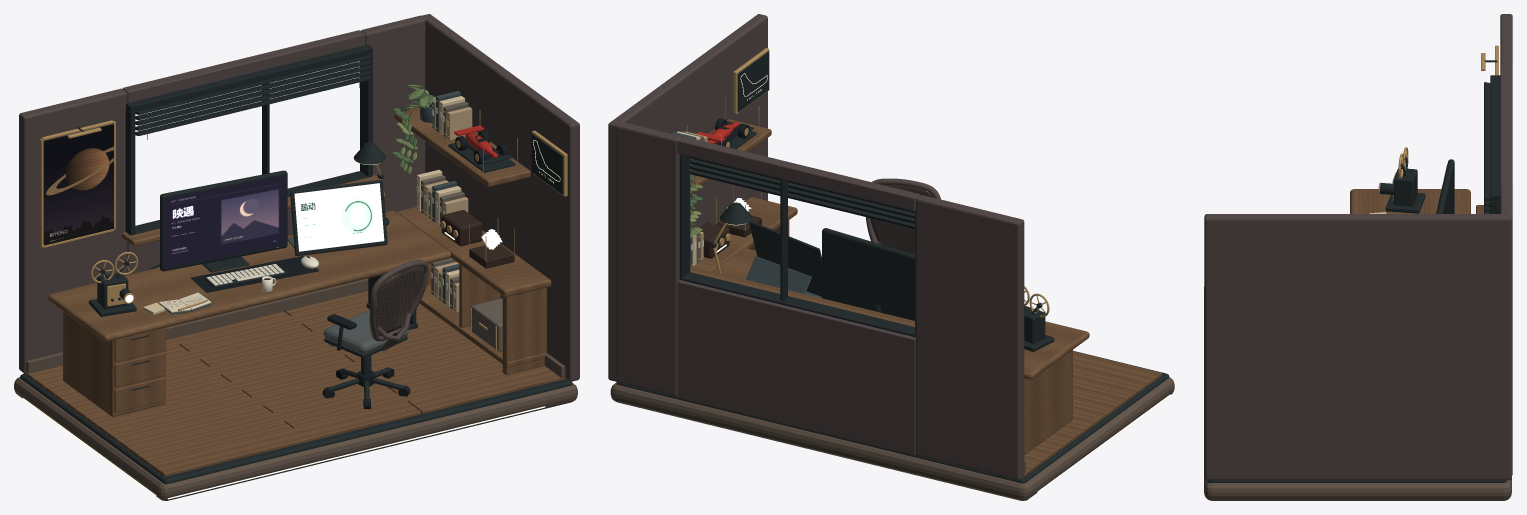
File: OvO_Studio_Interior.glb
3 views of the same model, side by side, from view 1: azimuth 30°, elevation 25°; view 2: azimuth 150°, elevation 25°; view 3: azimuth 270°, elevation 25° (orthographic). The views are drawn at different scales.
Parts seen in each view (by area): view 1: Arch_Right_Wall, Arch_Back_Left_Pier, Desk_Main_Ash_Top, Arch_Plinth, Screen_yingyu_Surface, Arch_Back_Right_Pier, Poster_Orbital_Study, Screen_bounce_Surface, Arch_Floor_Substrate, Arch_Ash_Plank_02_-3.38, Desk_Left_Cabinet, Arch_Back_Window_Header (+53 smaller); view 2: Arch_Back_Left_Pier, Arch_Back_Window_Apron, Arch_Back_Right_Pier, Arch_Right_Wall, Arch_Plinth, yingyu_Monitor_Enclosure, Arch_Back_Window_Header, Desk_Left_Cabinet, Desk_Main_Ash_Top, Window_Frame_1.99, Arch_Floor_Substrate, bounce_iPad_Enclosure (+17 smaller); view 3: Arch_Right_Wall, Arch_Plinth, Desk_Main_Ash_Top, Arch_Back_Window_Header, Window_Frame_3.72, Arch_Floor_Substrate, Window_Blind_Slat_0, Projector_Body, yingyu_Monitor_Enclosure, Arch_Back_Left_Pier, Arch_Back_Right_Pier, Projector_Pedestal.
Part boxes in pixels (bbox=[...]): Arch_Right_Wall: bbox=[422, 14, 579, 381]; Arch_Back_Left_Pier: bbox=[19, 88, 127, 373]; Desk_Main_Ash_Top: bbox=[47, 210, 450, 341]; Arch_Plinth: bbox=[14, 377, 577, 500]; Screen_yingyu_Surface: bbox=[166, 175, 284, 267]; Arch_Back_Right_Pier: bbox=[361, 15, 425, 211]; Poster_Orbital_Study: bbox=[44, 124, 113, 245]; Screen_bounce_Surface: bbox=[294, 183, 384, 251]; Arch_Floor_Substrate: bbox=[20, 374, 572, 484]; Arch_Ash_Plank_02_-3.38: bbox=[150, 401, 420, 476]; Desk_Left_Cabinet: bbox=[63, 311, 165, 416]; Arch_Back_Window_Header: bbox=[122, 30, 365, 102]; Arch_Back_Left_Pier: bbox=[915, 195, 1024, 479]; Arch_Back_Window_Apron: bbox=[677, 280, 915, 455]; Arch_Back_Right_Pier: bbox=[615, 122, 681, 396]; Arch_Right_Wall: bbox=[608, 14, 767, 381]; Arch_Plinth: bbox=[610, 377, 1174, 500]; yingyu_Monitor_Enclosure: bbox=[822, 228, 914, 320]; Arch_Back_Window_Header: bbox=[677, 136, 920, 211]; Desk_Left_Cabinet: bbox=[1024, 350, 1072, 454]; Desk_Main_Ash_Top: bbox=[712, 248, 1089, 379]; Window_Frame_1.99: bbox=[679, 272, 915, 337]; Arch_Floor_Substrate: bbox=[616, 351, 1169, 483]; bounce_iPad_Enclosure: bbox=[749, 221, 821, 296]; Arch_Right_Wall: bbox=[1204, 214, 1511, 480]; Arch_Plinth: bbox=[1204, 287, 1511, 500]; Desk_Main_Ash_Top: bbox=[1350, 189, 1470, 213]; Arch_Back_Window_Header: bbox=[1500, 65, 1512, 185]; Window_Frame_3.72: bbox=[1490, 75, 1500, 200]; Arch_Floor_Substrate: bbox=[1207, 480, 1506, 482]; Window_Blind_Slat_0: bbox=[1484, 82, 1490, 201]; Projector_Body: bbox=[1393, 168, 1417, 206]; yingyu_Monitor_Enclosure: bbox=[1436, 159, 1454, 213]; Arch_Back_Left_Pier: bbox=[1500, 14, 1512, 65]; Arch_Back_Right_Pier: bbox=[1500, 184, 1512, 475]; Projector_Pedestal: bbox=[1385, 193, 1425, 213].
Size of the model in its own units: 7.06 by 4.5 by 4.42.
32 materials, 4 textured.
